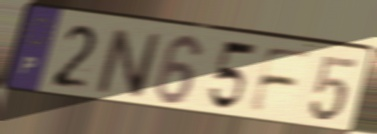2: (51, 23, 99, 93)
5: (206, 37, 259, 113), (307, 52, 361, 123)
6: (152, 32, 205, 107)
F: (245, 45, 317, 117)
N: (93, 25, 163, 101)
